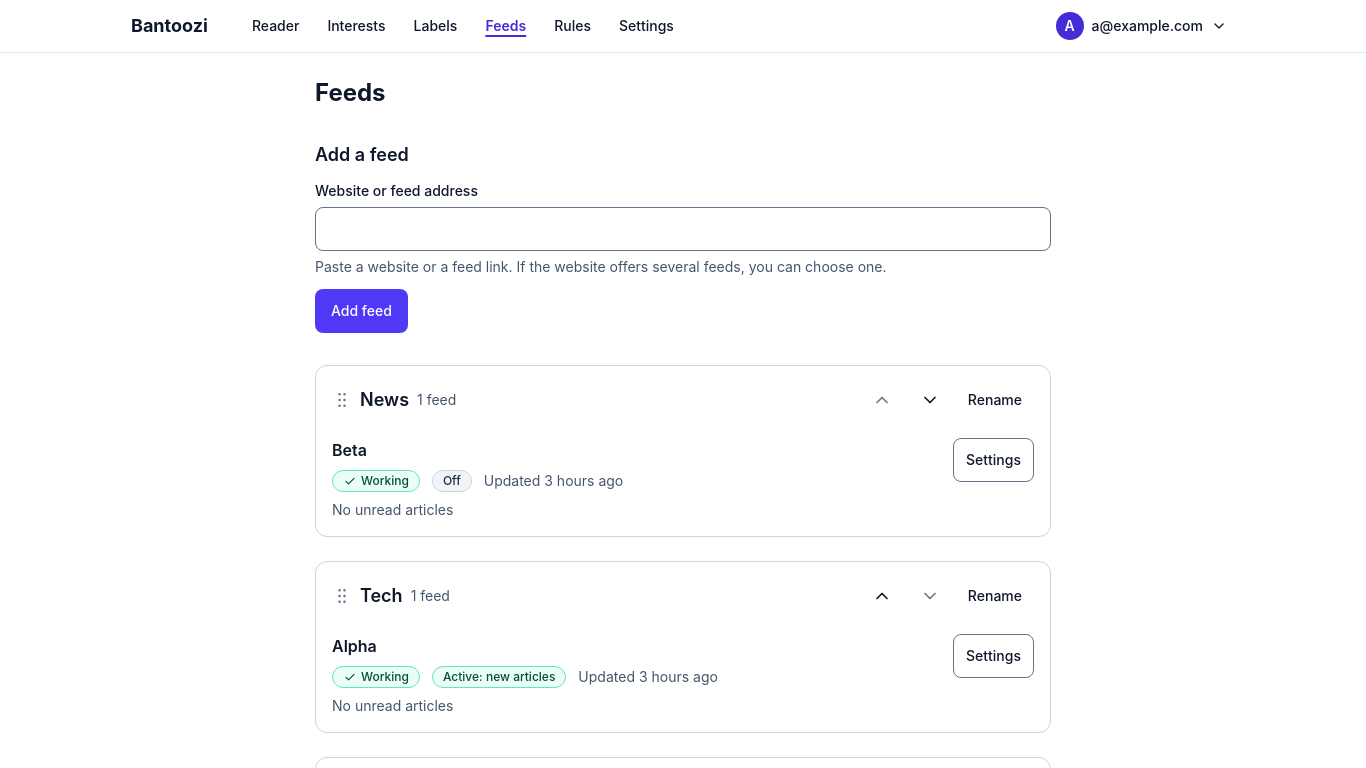
Test: the agreement line in the feed settings › is absent for a feed that is not in training
The image size is (1366, 768).
Click the button with aria-label "Settings for Alpha".
click(994, 656)  # box [953,634,1034,678]
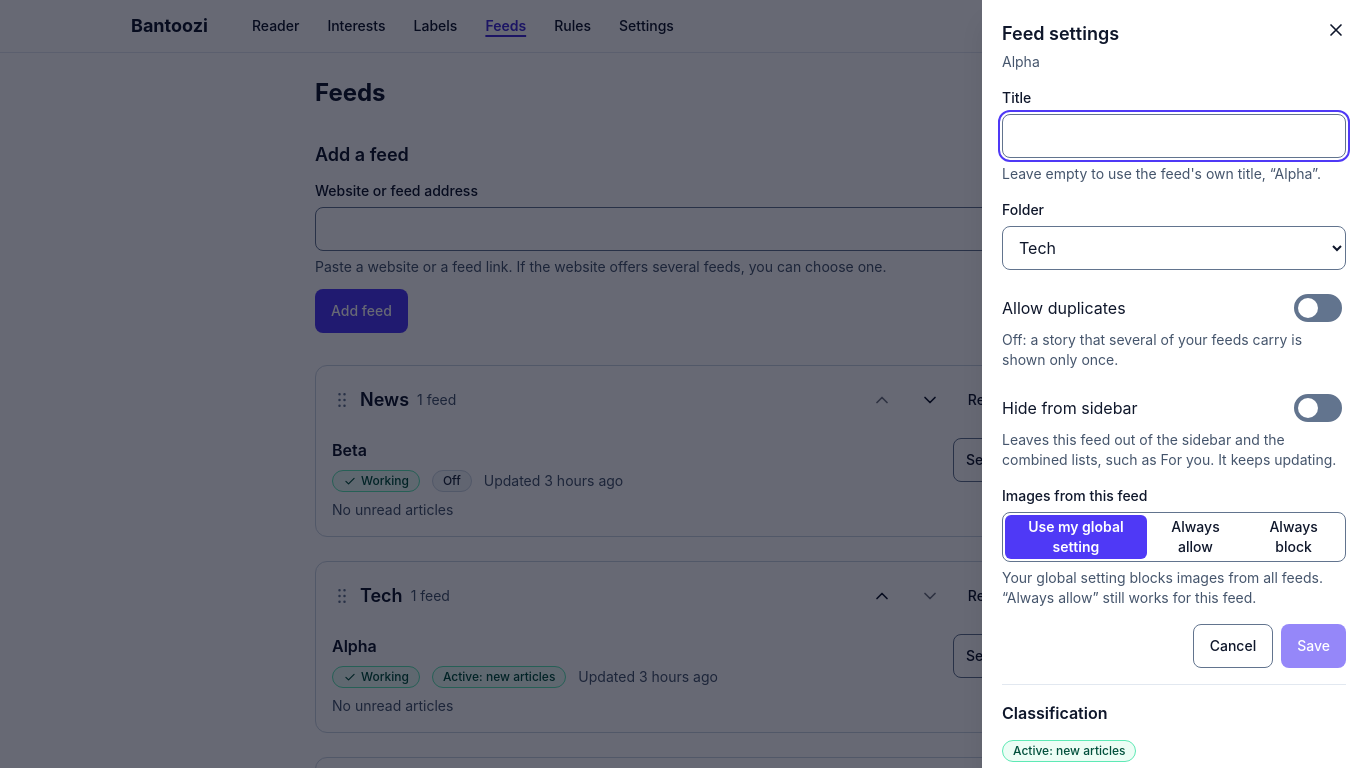
Now the heading "Classification" is shown, box [1002,703,1108,723]
